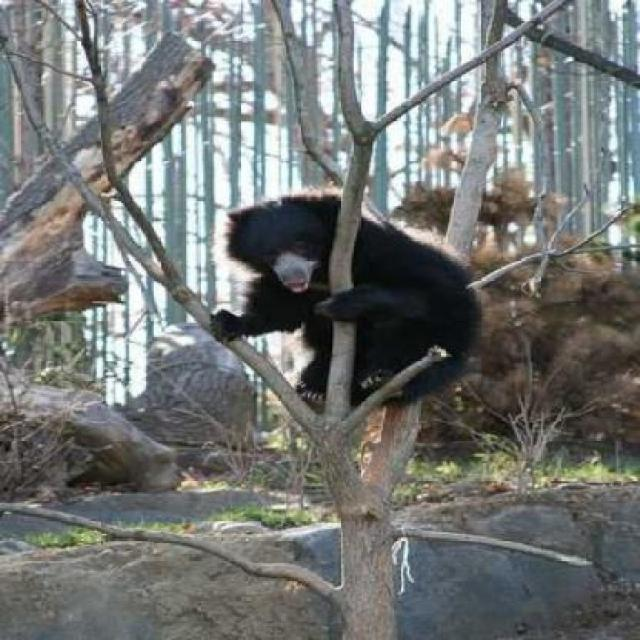Bear: (215, 195, 500, 430)
